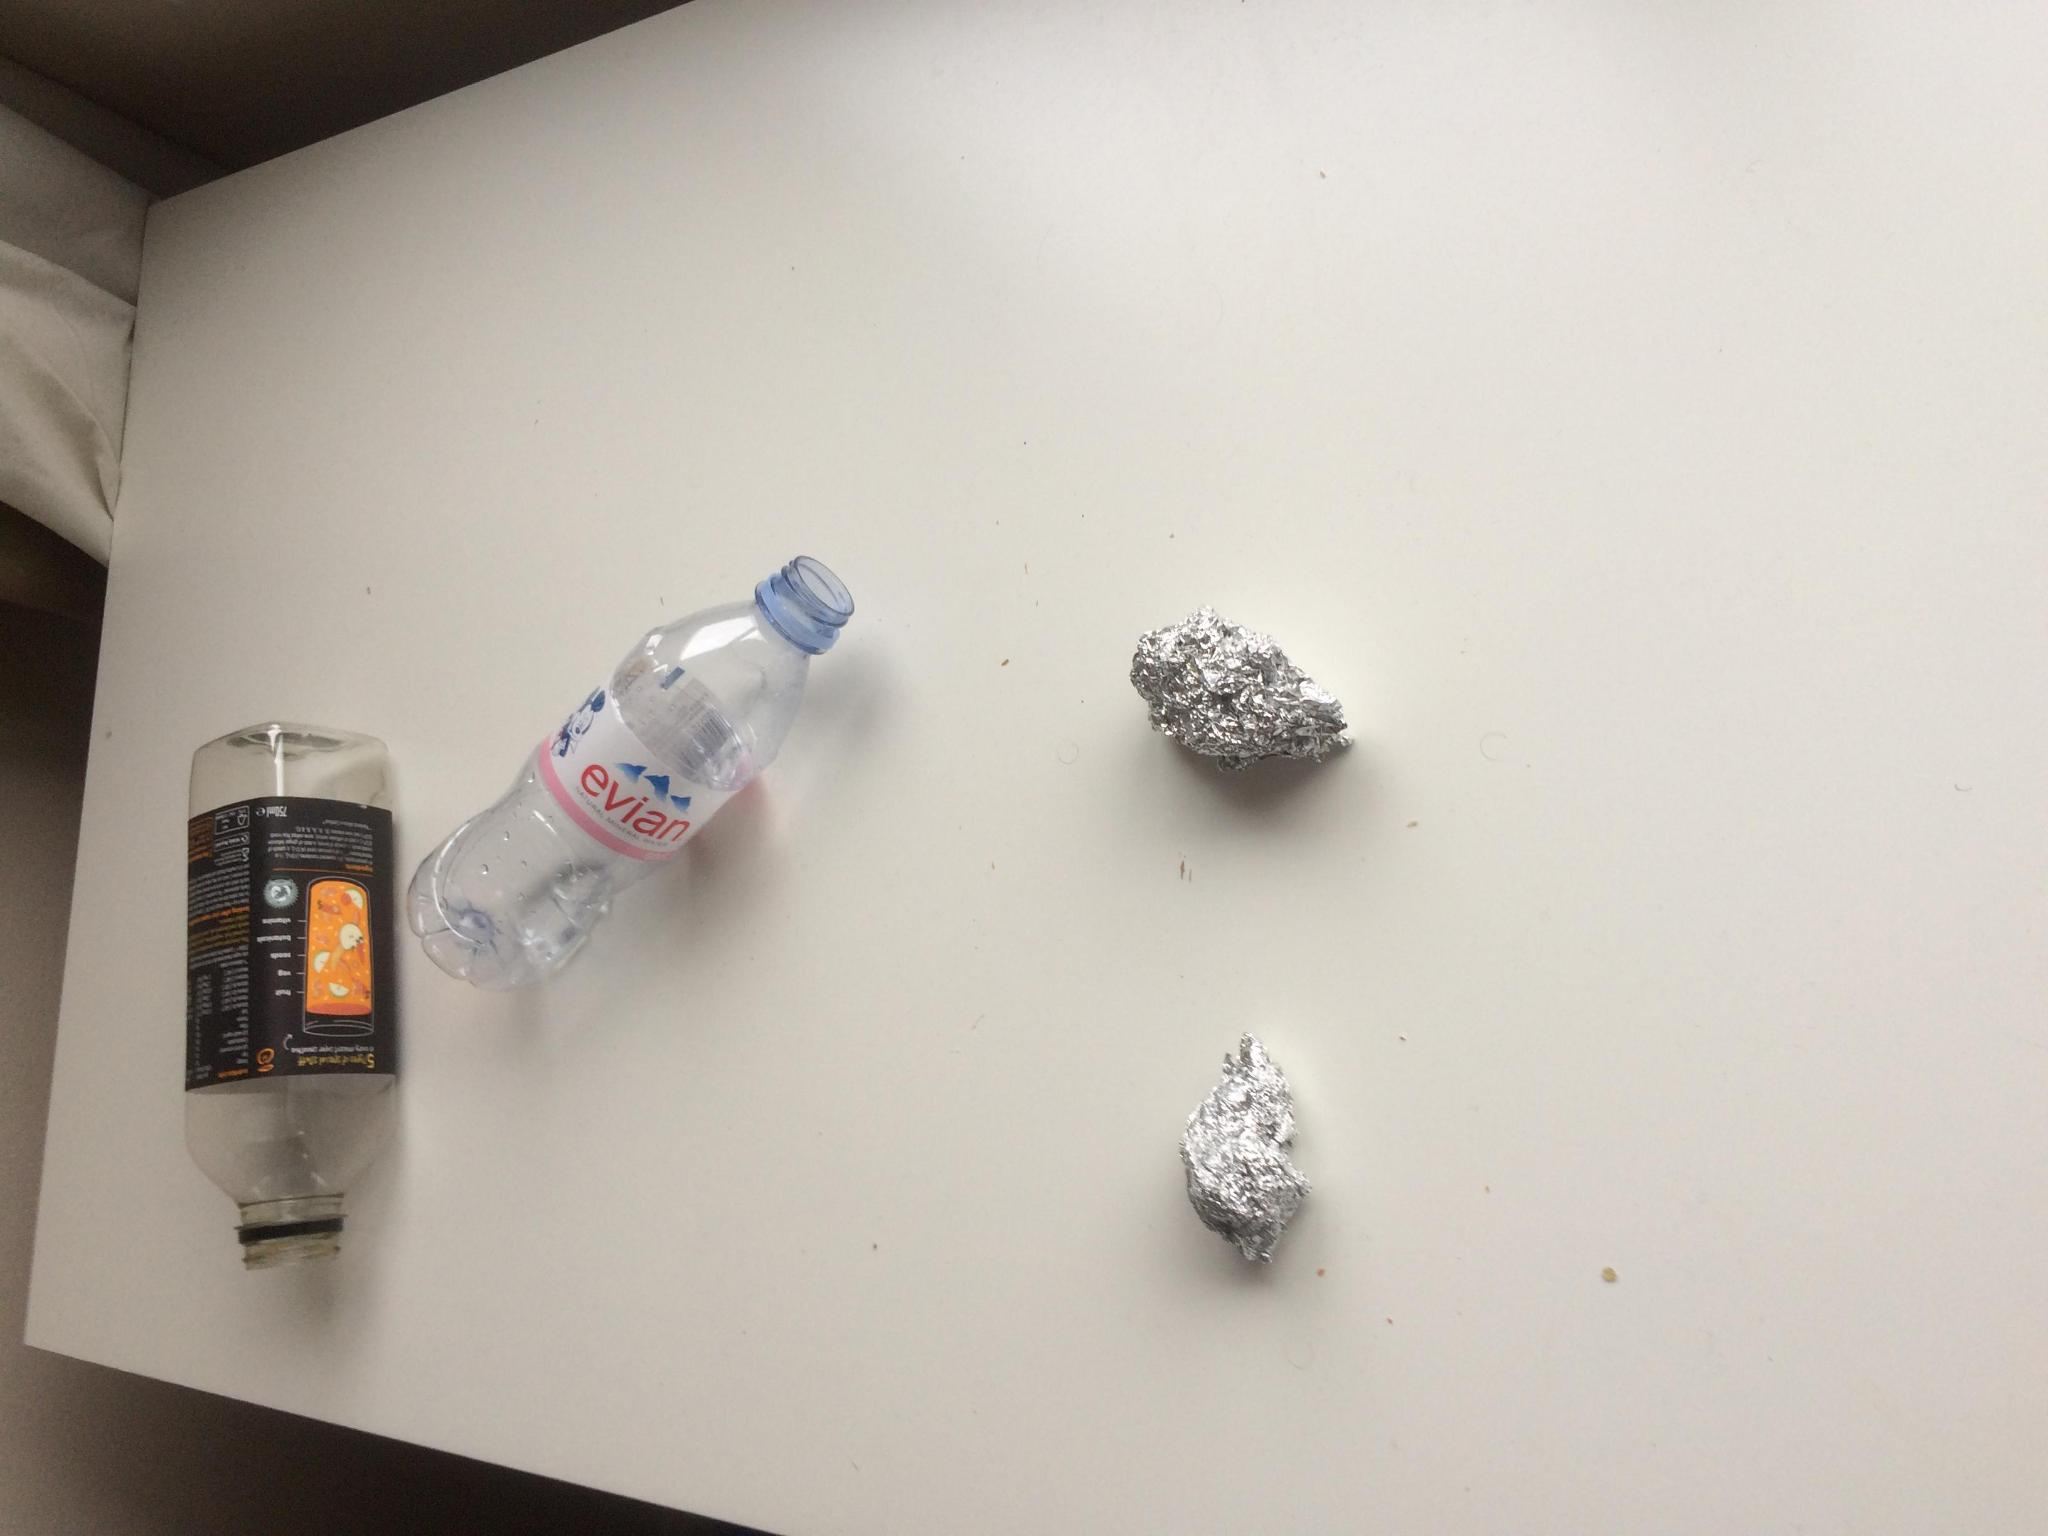bottle: (414, 572, 942, 1034), (136, 710, 394, 1292)
